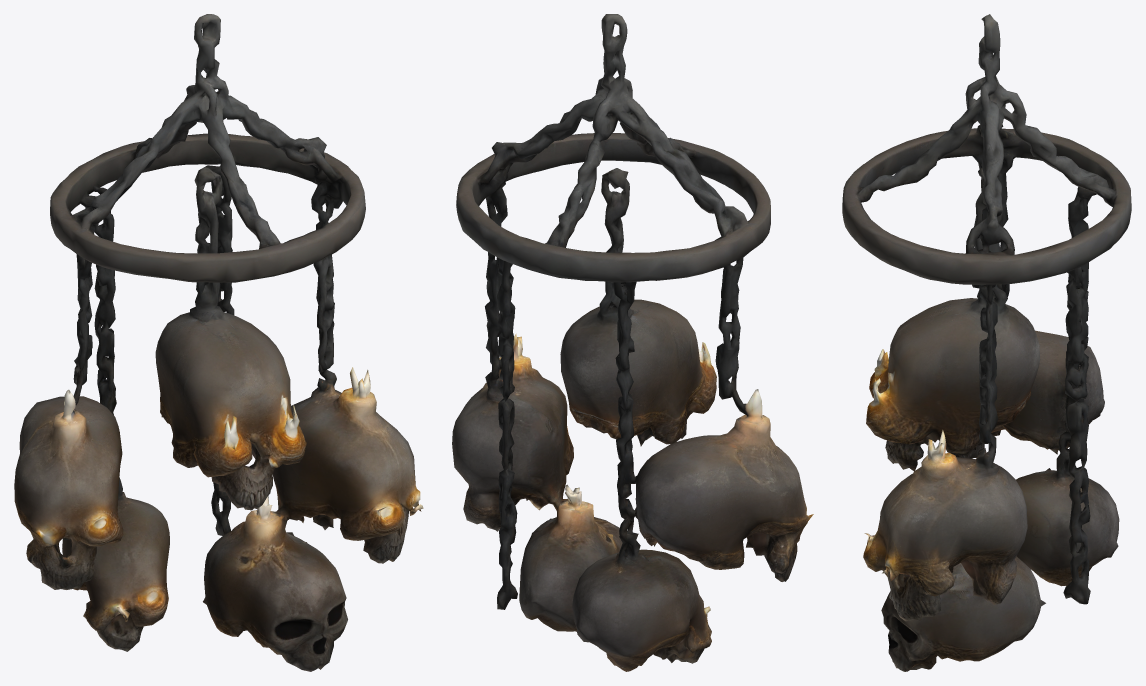
File: skull_chandelier.glb
3 views of the same model, side by side, from view 1: azimuth 30°, elevation 25°; view 2: azimuth 150°, elevation 25°; view 3: azimuth 270°, elevation 25° (orthographic). The views are drawn at different scales.
Bounding box in the file's own units: 1.19 × 2 × 0.8457.
1 material, 1 textured.
